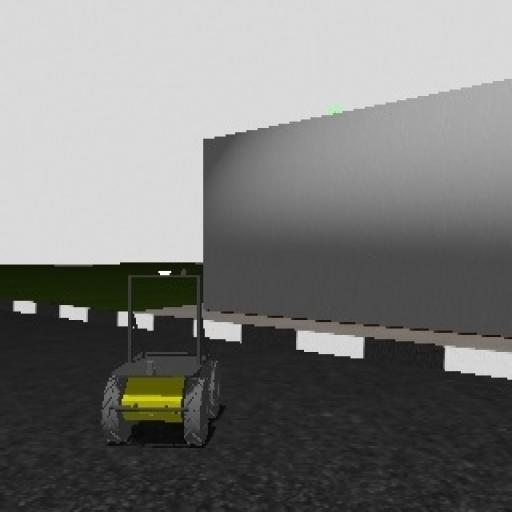huskya200: (80, 259, 232, 453)
